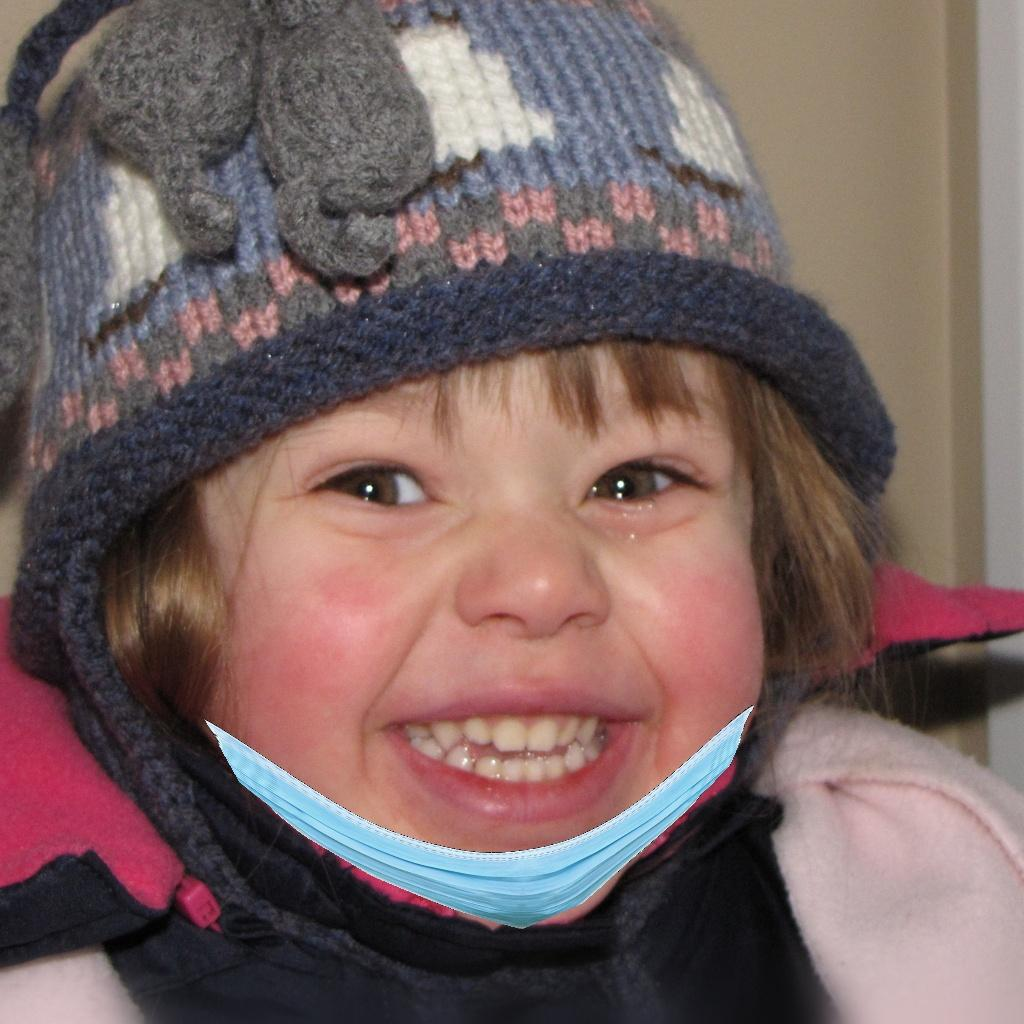Sem Máscara: (145, 365, 777, 908)
